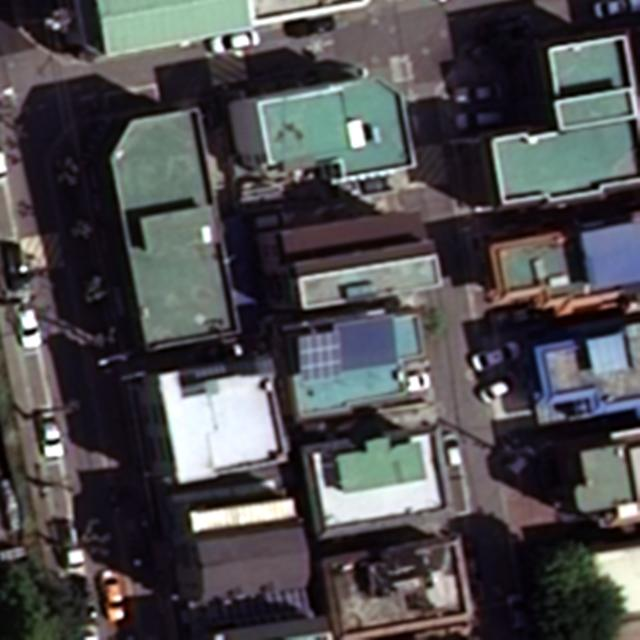solarpanel: (292, 330, 338, 380)
